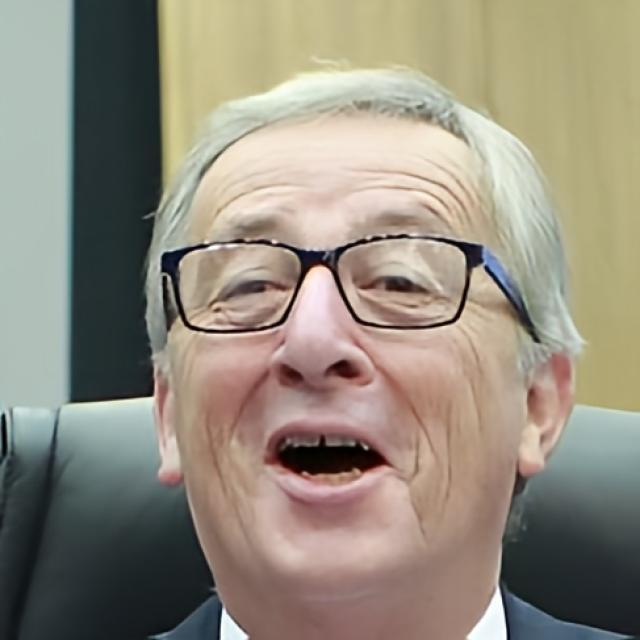surprise: (170, 105, 521, 604)
